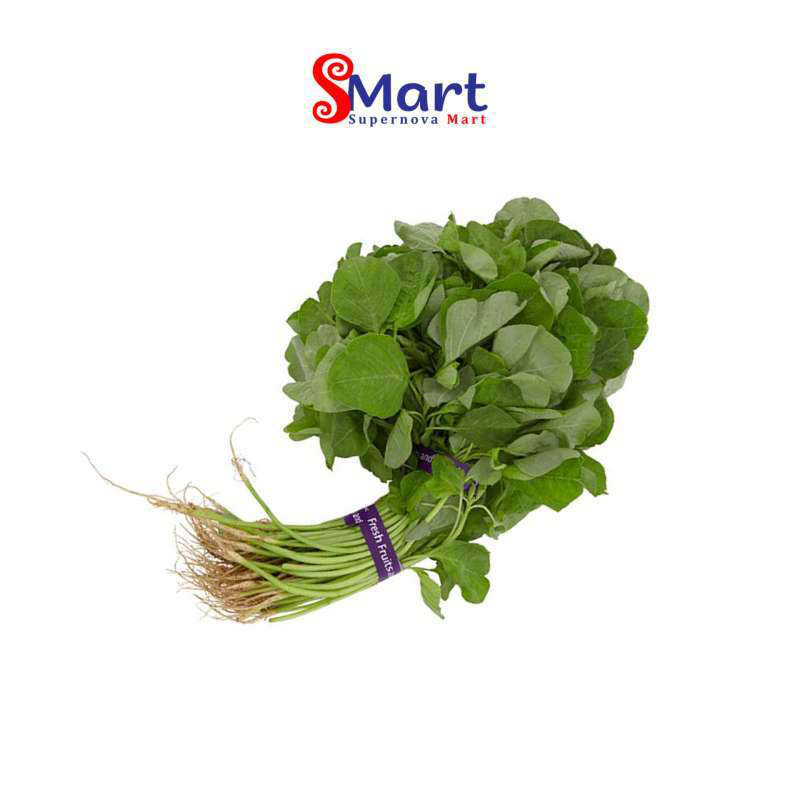Bayam: (165, 192, 663, 647)
